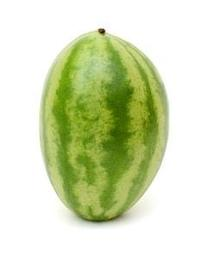watermelon: (37, 29, 170, 225)
